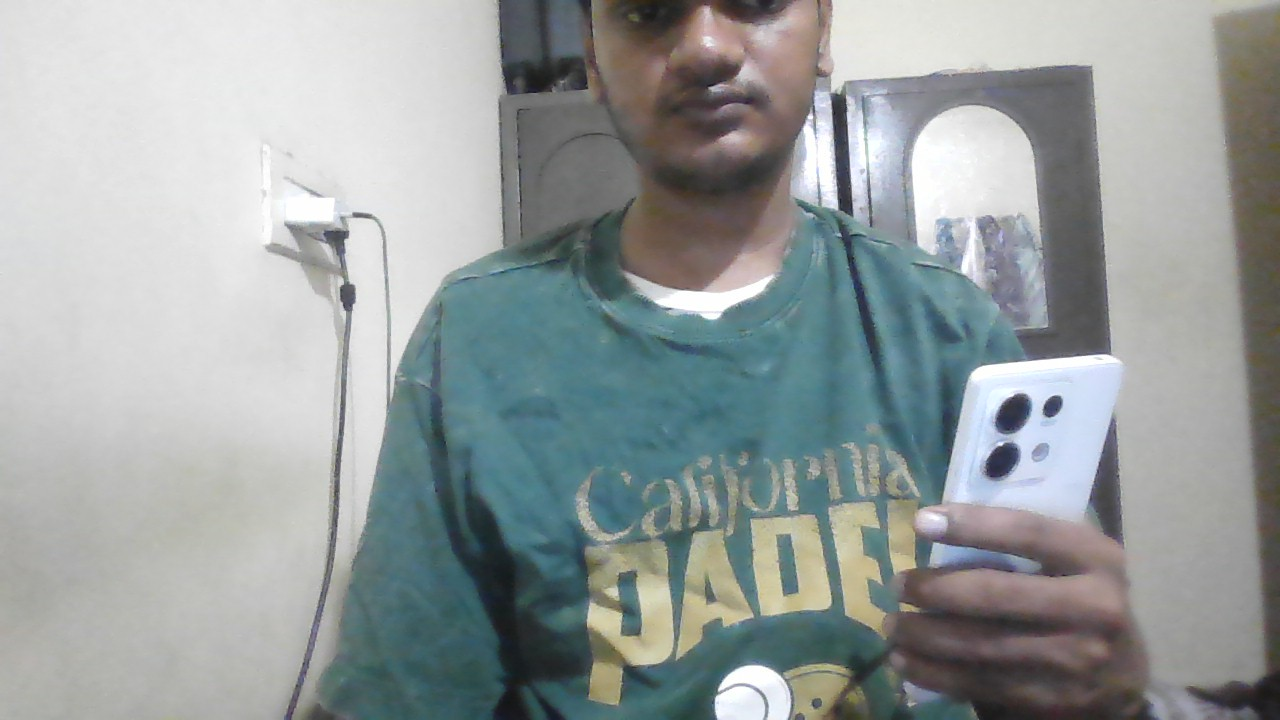phone: (962, 356, 1124, 498)
